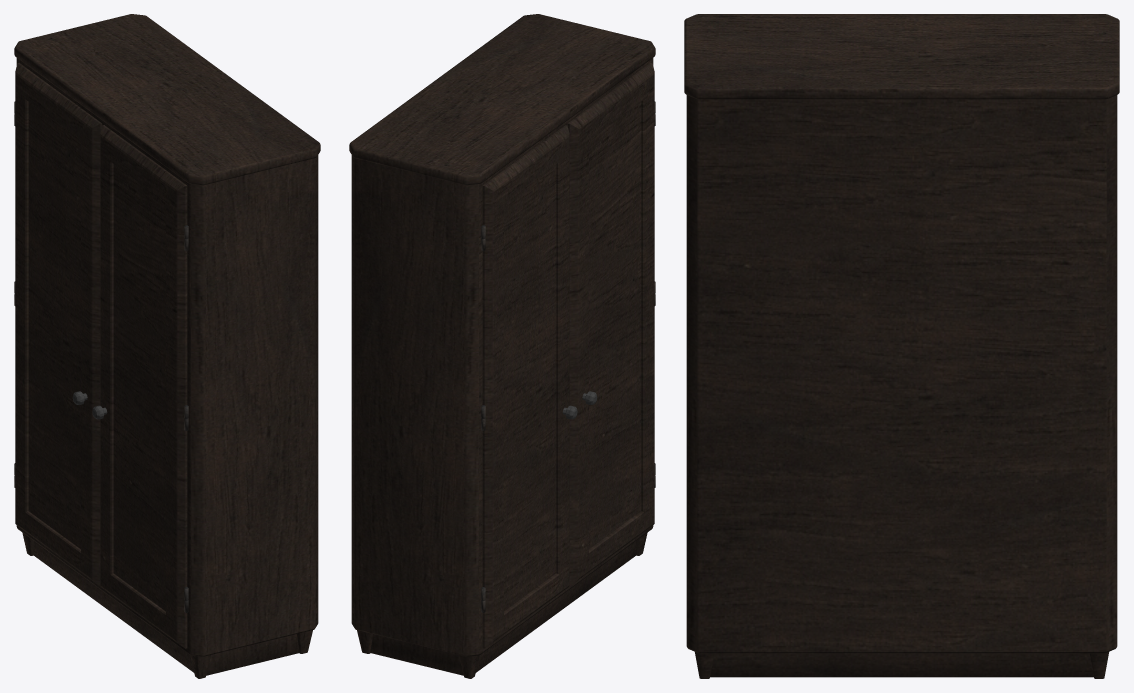
Rendered from wardrobe_5.obj.
3 renders of one model, left to right at view 1: azimuth 30°, elevation 25°; view 2: azimuth 150°, elevation 25°; view 3: azimuth 270°, elevation 25°, orthographic. The views are drawn at different scales.
Parts seen in each view (by area): view 1: wardrobe_5, wardrobe_5_door_2, wardrobe_5_door_1; view 2: wardrobe_5, wardrobe_5_door_1, wardrobe_5_door_2; view 3: wardrobe_5.
Part boxes in pixels (x1,y1,x2,y2): wardrobe_5: (14, 14, 320, 678); wardrobe_5_door_2: (92, 125, 188, 648); wardrobe_5_door_1: (14, 63, 102, 585); wardrobe_5: (349, 14, 655, 678); wardrobe_5_door_1: (481, 125, 577, 648); wardrobe_5_door_2: (567, 63, 655, 585); wardrobe_5: (684, 14, 1119, 678).
Size of the model in its own units: 0.79 by 2.57 by 1.7.
